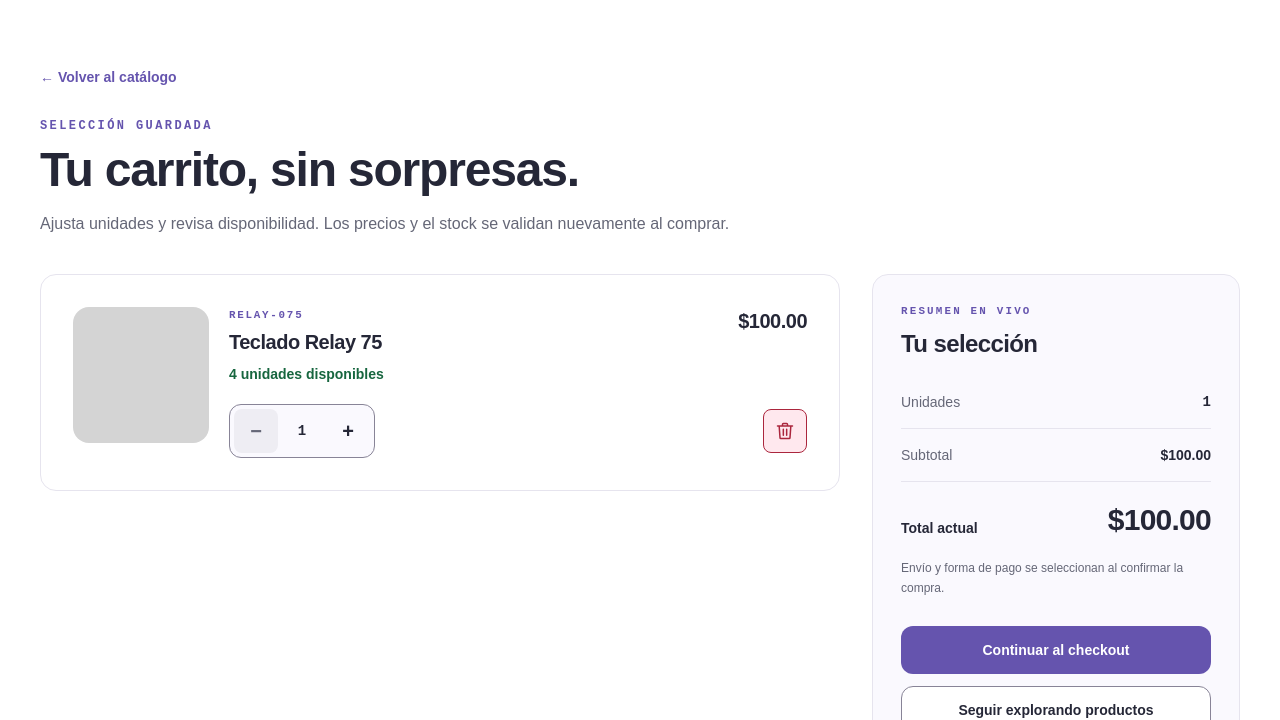
it: storefront cart › updates quantity and totals from the REST mutation response
The image size is (1280, 720).
Click the button named "Aumentar cantidad de Teclado Relay 75". click: point(348, 431)
box: left=326, top=409, right=370, bottom=453
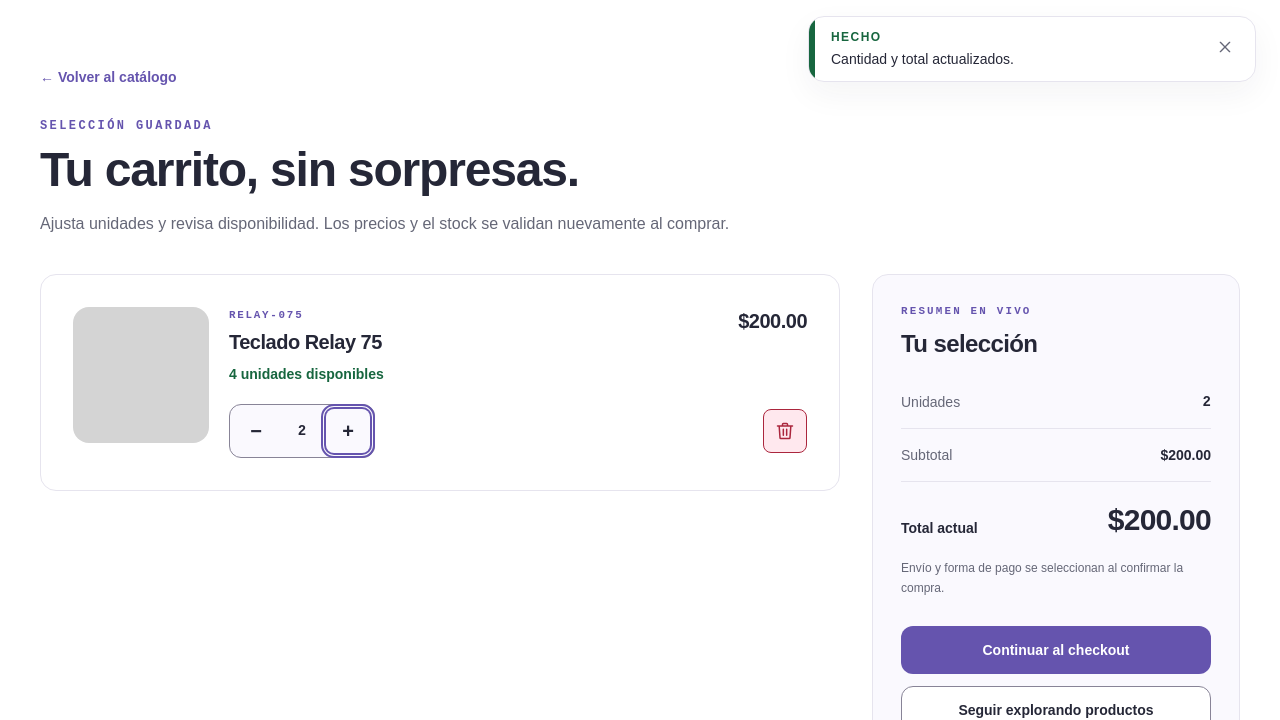
Expected: the text "2" below "4 unidades disponibles" is shown, left=298, top=423, right=306, bottom=439
Expected: the text "$200.00" is shown 3 times, left=738, top=307, right=807, bottom=335; left=1160, top=445, right=1211, bottom=465; left=1108, top=502, right=1211, bottom=538
Expected: the text "Cantidad y total actualizados." is shown, left=831, top=51, right=1014, bottom=67
